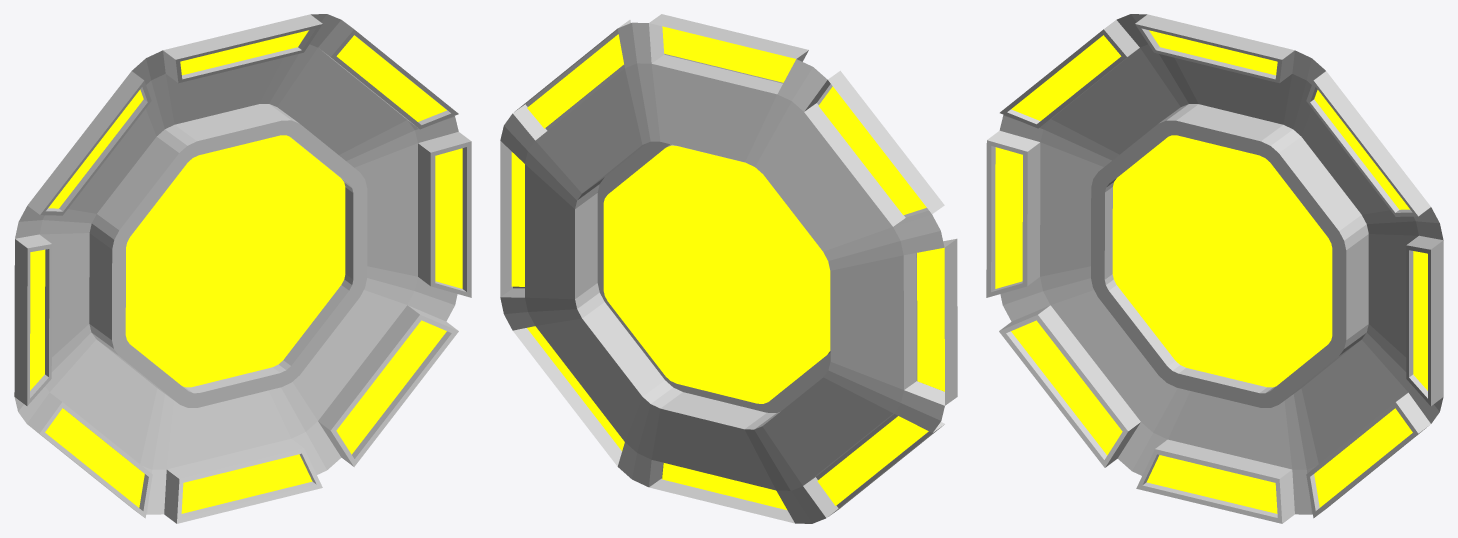
Rendered from lamp.fbx.
3 renders of one model, left to right at view 1: azimuth 30°, elevation 25°; view 2: azimuth 150°, elevation 25°; view 3: azimuth 330°, elevation 25°, orthographic.
Visible parts, largest first — view 1: SoffittoBAse.002; view 2: SoffittoBAse.002; view 3: SoffittoBAse.002.
Part boxes in pixels (x1,y1,x2,y2): SoffittoBAse.002: [14, 14, 471, 523]; SoffittoBAse.002: [500, 14, 957, 523]; SoffittoBAse.002: [986, 14, 1443, 523].
Size of the model in its own units: 232 by 232 by 29.3.
